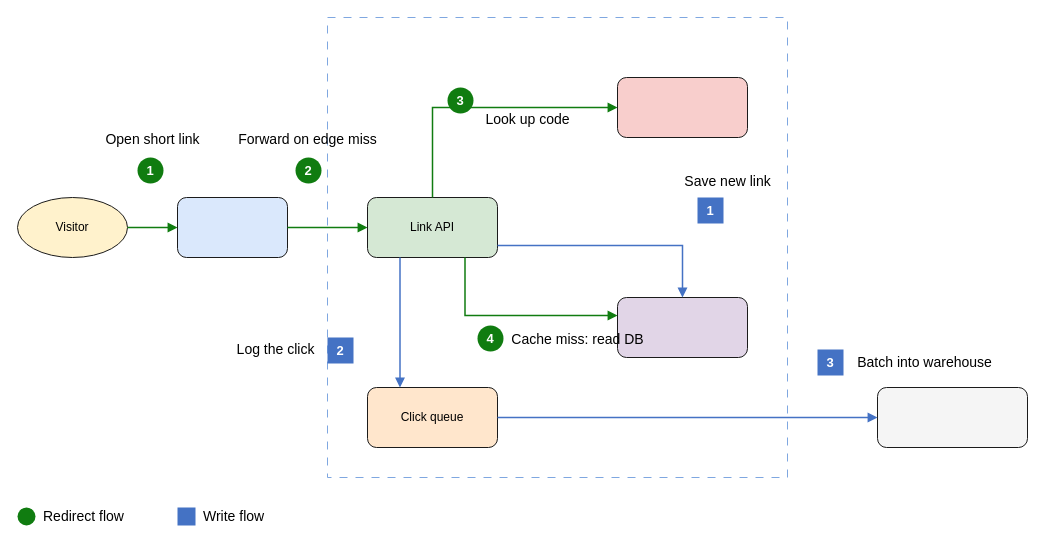
Image size: 1045x546. Some labels were removed from this diagram. The shapes that lost their labels are listed below. From the top down, each one's box as (x1, y1, x2, y2) in pixels, then its label:
(616, 76, 748, 138): Redis cache
(176, 196, 288, 258): CDN edge
(326, 16, 788, 478): Private network
(616, 296, 748, 358): Postgres
(876, 386, 1028, 448): Analytics warehouse
